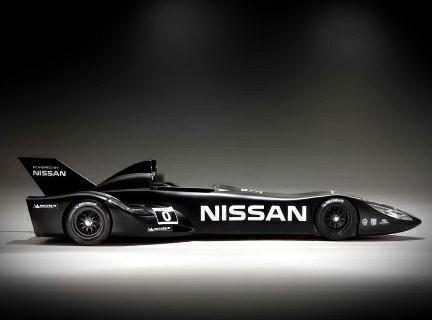日产-DeltaWing: (15, 150, 423, 250)
